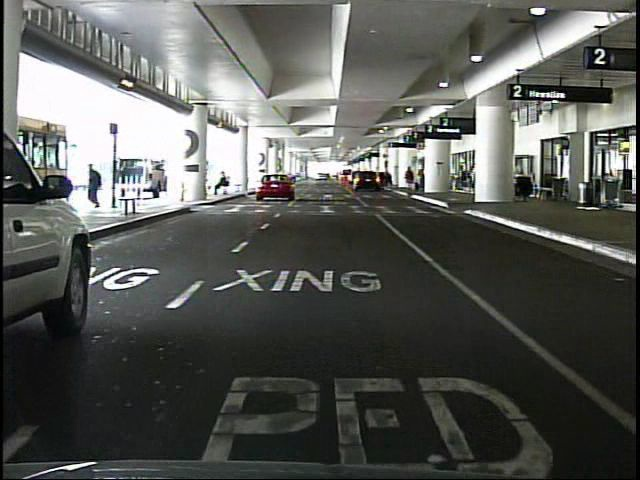person: (89, 163, 108, 208), (215, 171, 234, 196), (406, 164, 418, 193)
